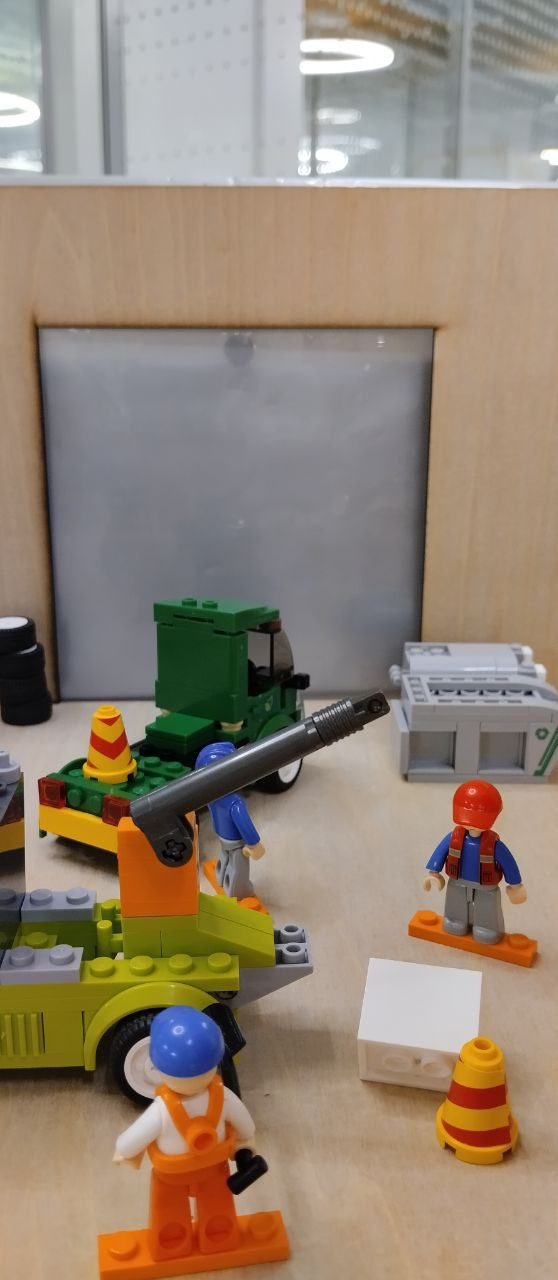Cone: (434, 1038, 523, 1163), (76, 705, 139, 786)
Crane: (1, 688, 395, 1099)
Object white: (357, 954, 483, 1095)
Truck: (33, 584, 313, 861)
